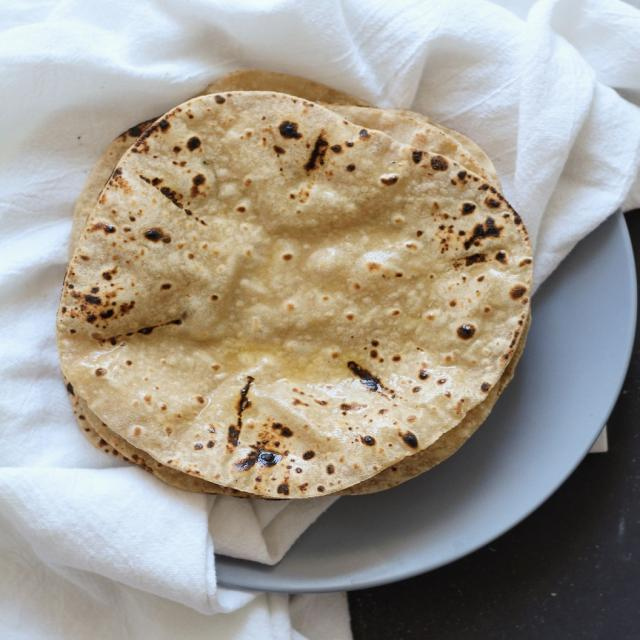SAMOSA: (53, 94, 541, 487)
